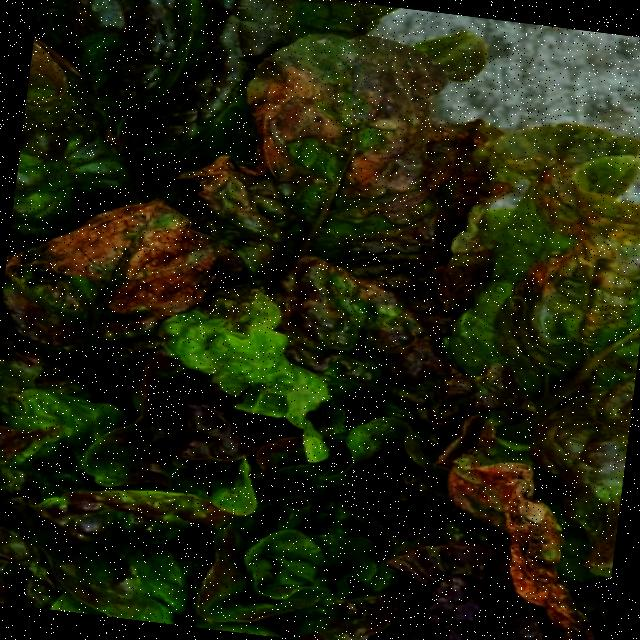Bacterial: (228, 55, 424, 266), (426, 450, 600, 631), (49, 192, 210, 325)
